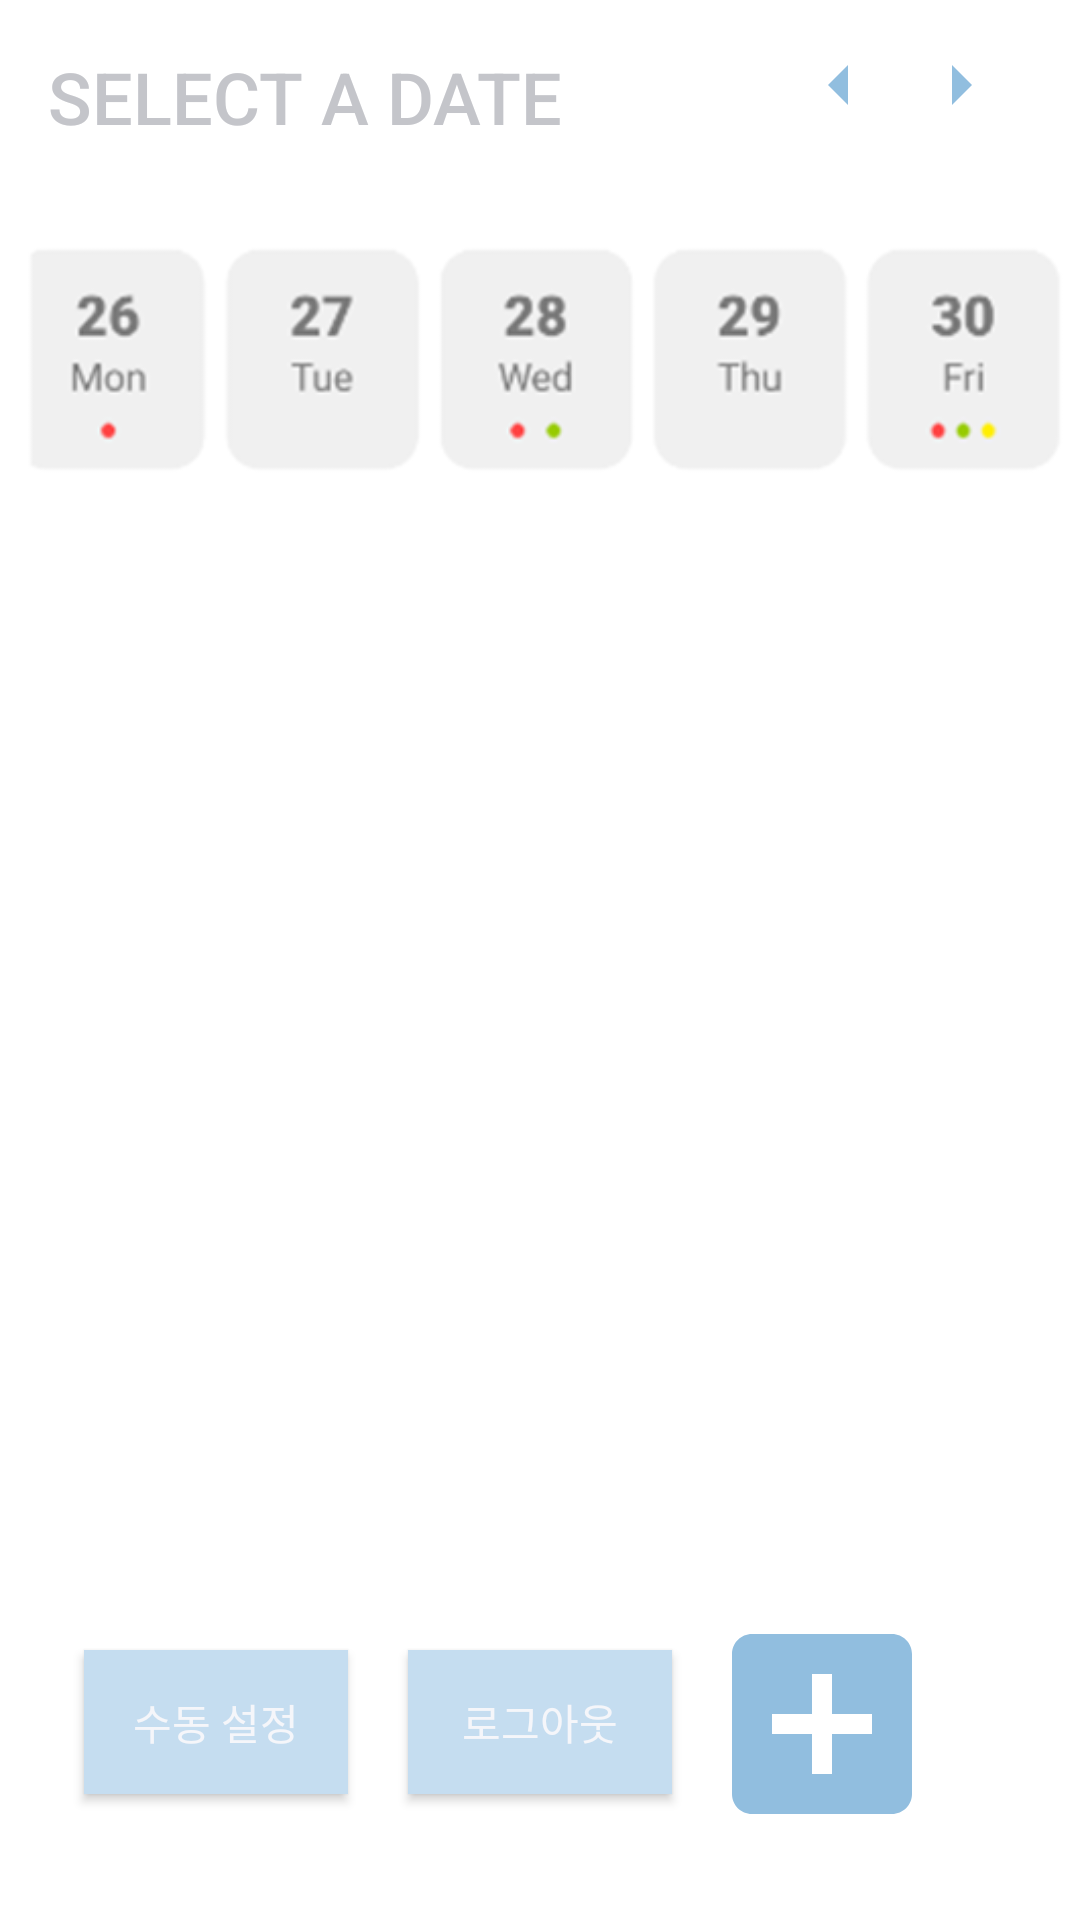

Named icons in this screenshot (1080w x 1920h) and their centers, (x=x, y=y):
add box: (x=822, y=1724)
arrow left: (x=838, y=85)
arrow right: (x=962, y=85)
